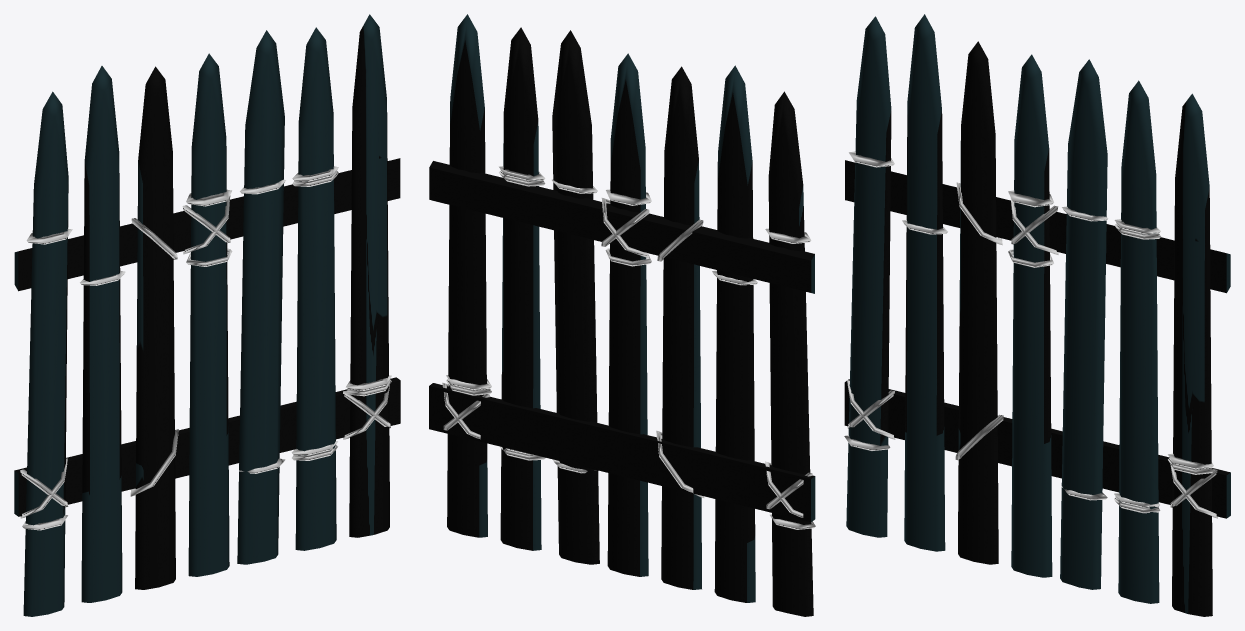
The model's file is 尖头栅栏.fbx.
The picture shows the model from 3 angles, left to right: view 1: azimuth 30°, elevation 25°; view 2: azimuth 150°, elevation 25°; view 3: azimuth 330°, elevation 25°; orthographic projection.
Parts seen in each view (by area): view 1: Cube.029_Baked.001, Cube.029_Baked.003; view 2: Cube.029_Baked.001, Cube.029_Baked.003; view 3: Cube.029_Baked.001, Cube.029_Baked.003.
Part boxes in pixels (x1=…): Cube.029_Baked.001: x1=14, y1=14, x2=400, y2=616; Cube.029_Baked.003: x1=20, y1=166, x2=391, y2=530; Cube.029_Baked.001: x1=429, y1=14, x2=815, y2=616; Cube.029_Baked.003: x1=442, y1=166, x2=815, y2=529; Cube.029_Baked.001: x1=844, y1=14, x2=1230, y2=616; Cube.029_Baked.003: x1=844, y1=151, x2=1217, y2=518.
Size of the model in its own units: 176 by 234 by 16.54.
